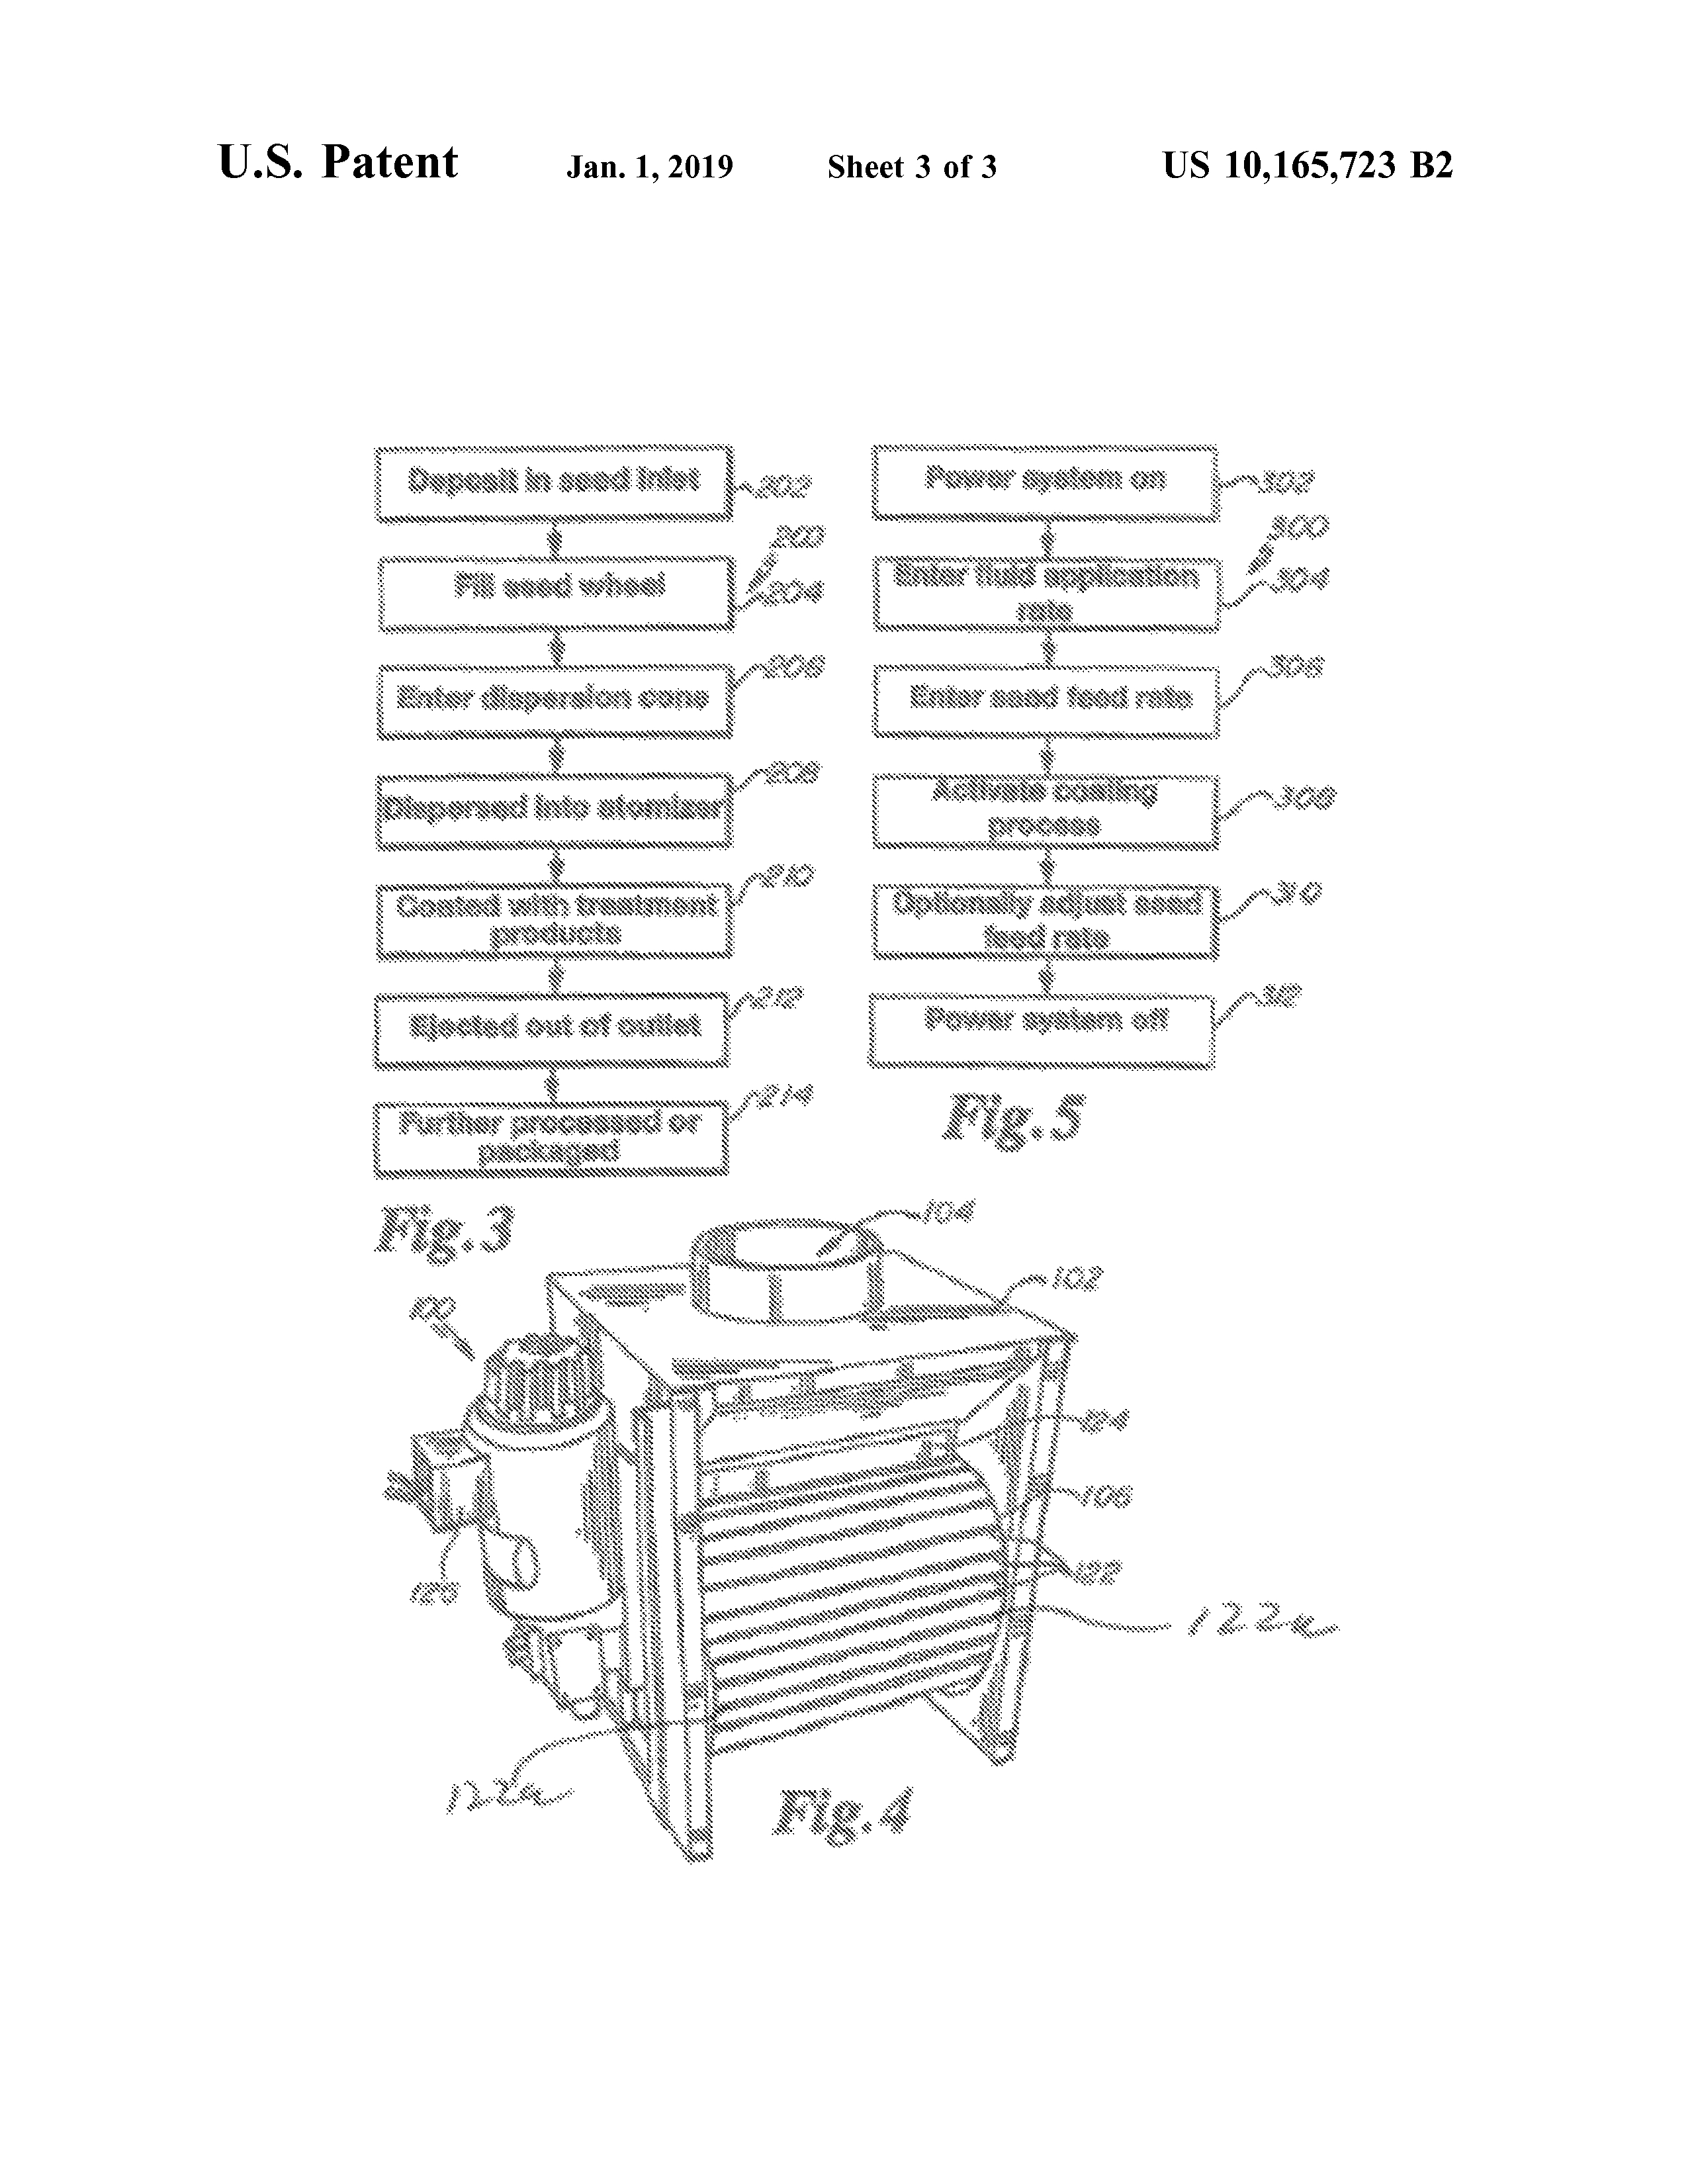patent image: (373, 1197, 1351, 1864), (339, 414, 828, 1263), (854, 400, 1351, 1151)
